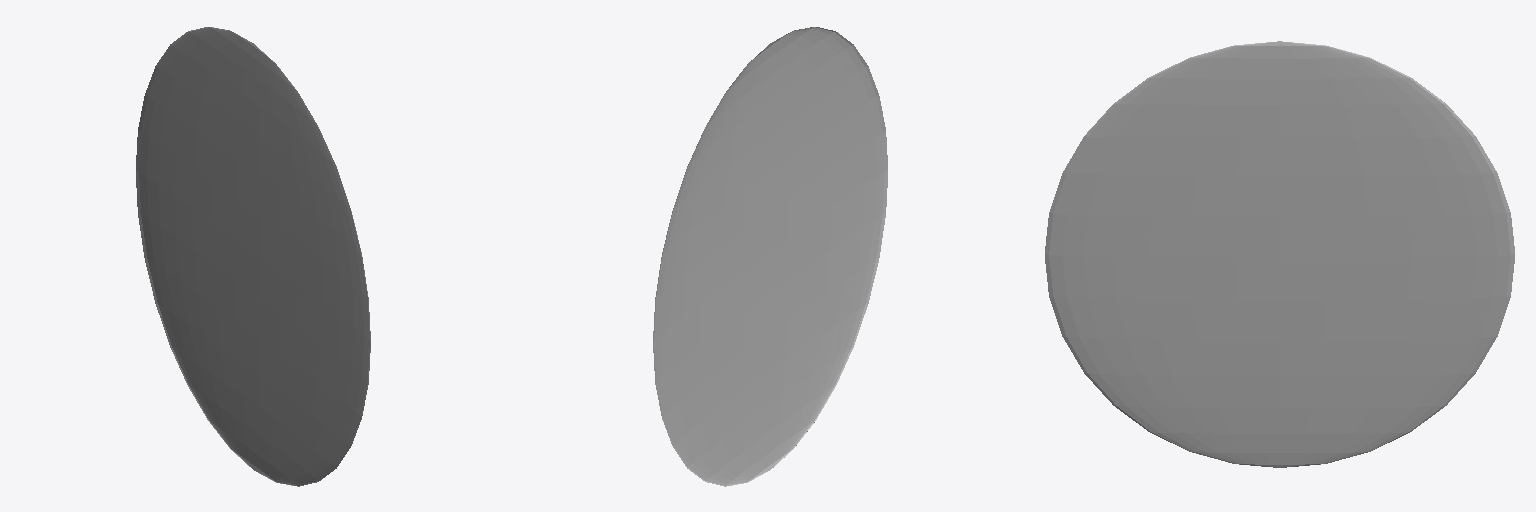
File: UI_Button.obj
The picture shows the model from 3 angles: view 1: azimuth 30°, elevation 25°; view 2: azimuth 150°, elevation 25°; view 3: azimuth 270°, elevation 25°; orthographic projection.
Parts seen in each view (by area): view 1: Controls_Sphere, Exit_Sphere.001; view 2: Controls_Sphere, Exit_Sphere.001; view 3: Controls_Sphere, Exit_Sphere.001.
Boxes of the visible parts, x1,y1,x2,y2 form: Controls_Sphere: [136, 27, 370, 486]; Exit_Sphere.001: [136, 48, 369, 486]; Controls_Sphere: [653, 27, 887, 486]; Exit_Sphere.001: [654, 27, 886, 485]; Controls_Sphere: [1045, 41, 1514, 467]; Exit_Sphere.001: [1045, 46, 1514, 464].
Size of the model in its own units: 0.0302 by 2 by 2.